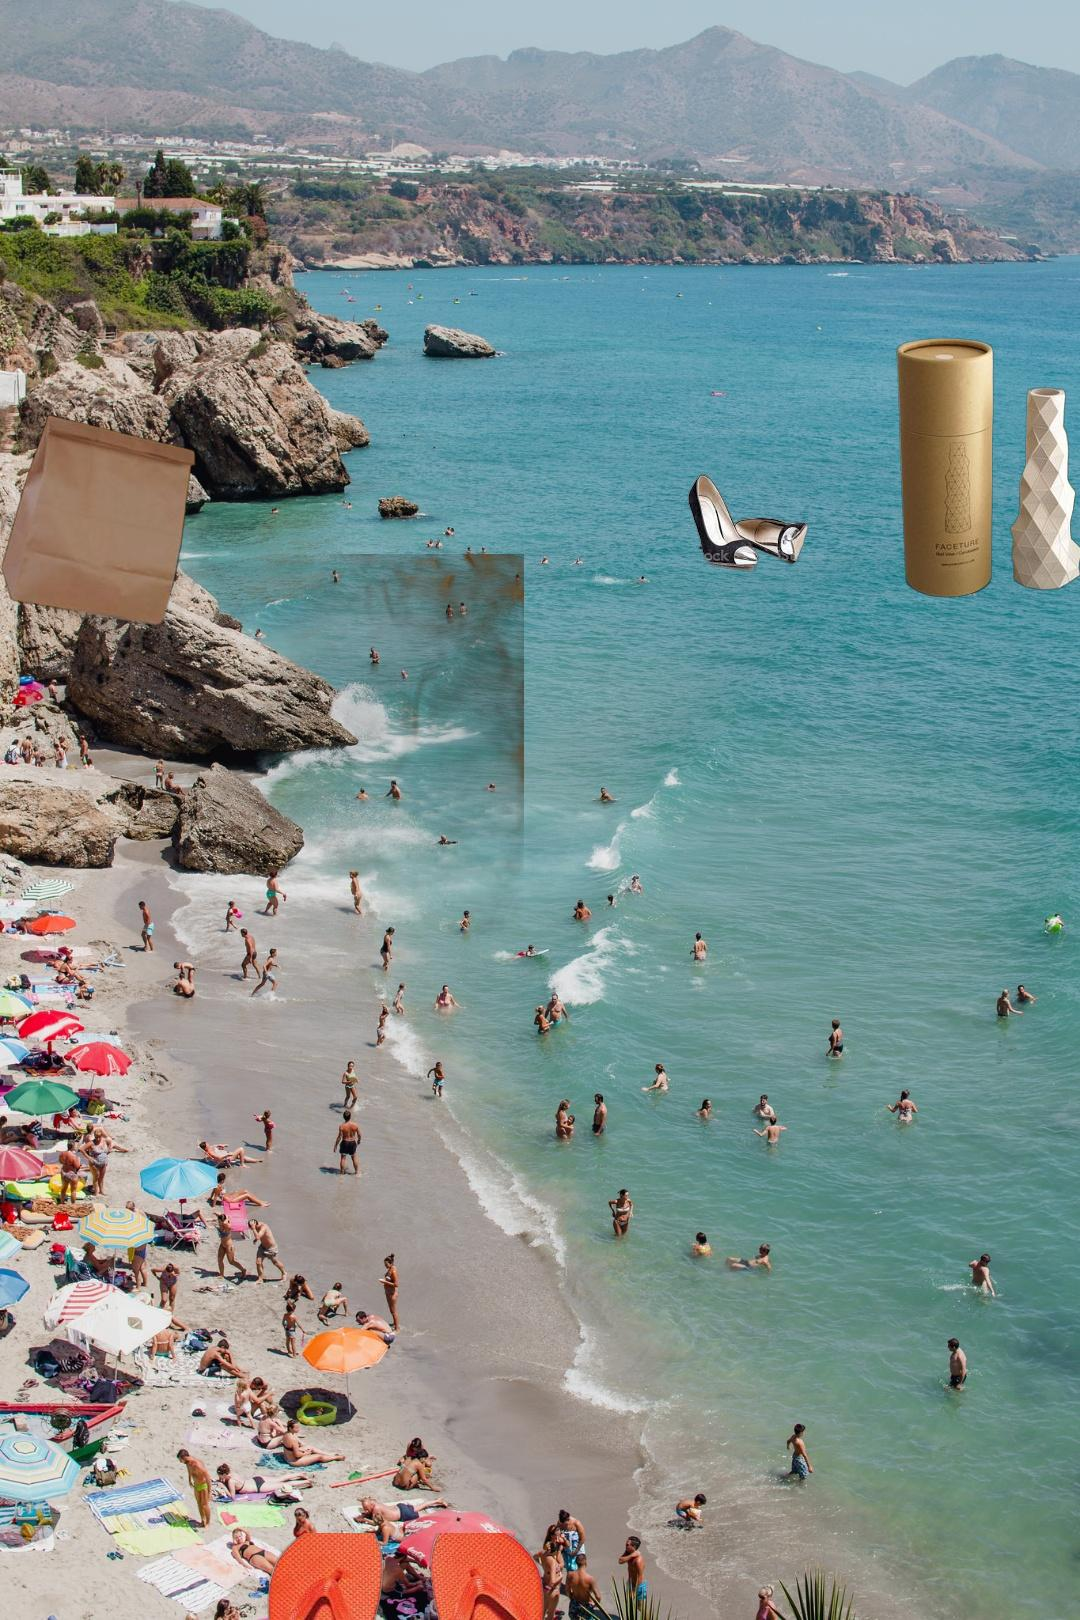paper: (12, 554, 524, 938)
paper-bag: (0, 413, 198, 667)
shoes: (258, 1533, 553, 1620), (685, 472, 811, 574)
trashbox-cardboard: (894, 335, 1080, 600)
